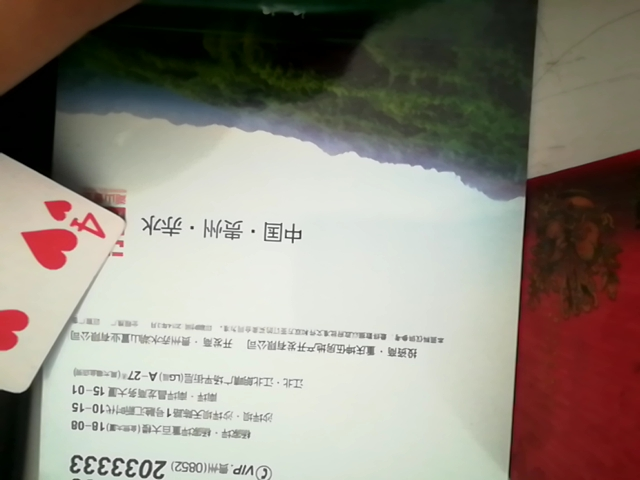hx 4: (0, 48, 137, 403)
